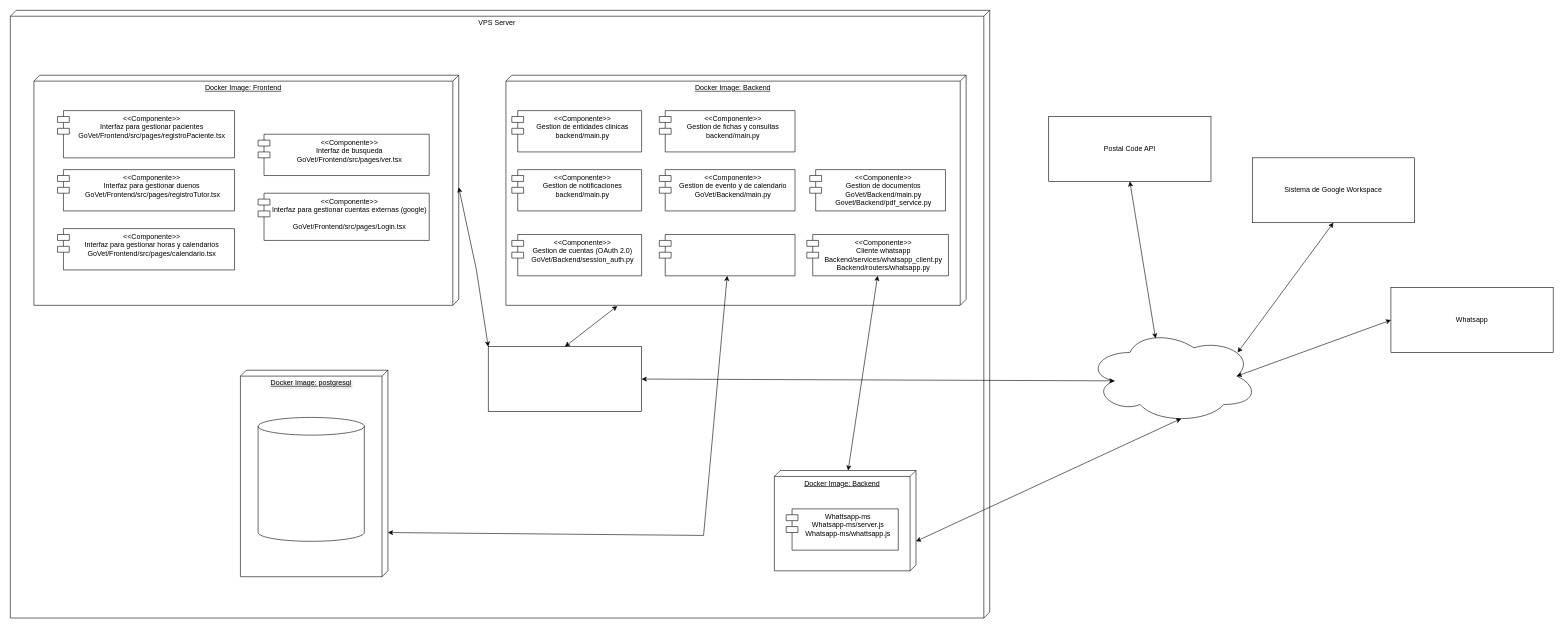
The diagram is 1563 pixels wide and 628 high, and some of its shapes have lost their labels. Here are the shapes that lost their labels. From the top down, the centre of each, then its label:
the point at 727,255: <<Componente>> Persistencia de datos GoVet/Backend/main.py
the point at 565,379: nginx
the point at 1172,375: Internet
the point at 311,479: Data base
